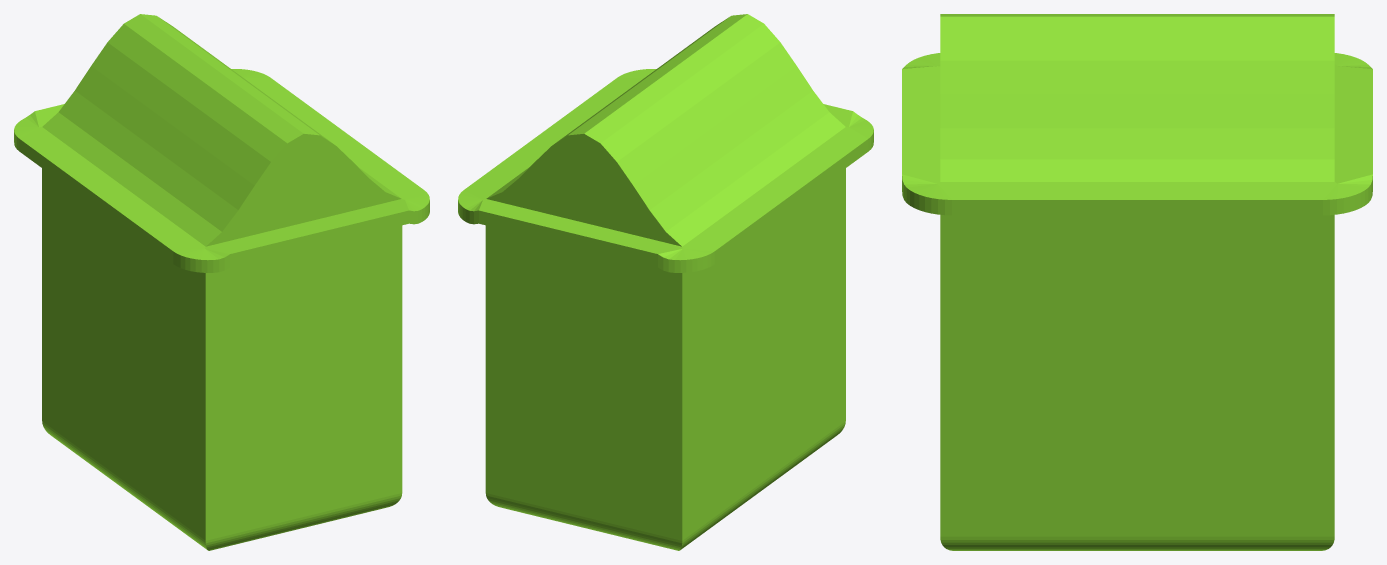
File: TACHO.fbx
3 views of the same model, side by side, from view 1: azimuth 30°, elevation 25°; view 2: azimuth 150°, elevation 25°; view 3: azimuth 270°, elevation 25° (orthographic). The views are drawn at different scales.
Parts seen in each view (by area): view 1: Cube, Cube.001; view 2: Cube, Cube.001; view 3: Cube, Cube.001.
Part boxes in pixels (bbox=[...]): Cube: bbox=[42, 168, 402, 550]; Cube.001: bbox=[14, 14, 429, 272]; Cube: bbox=[485, 168, 845, 550]; Cube.001: bbox=[458, 14, 873, 272]; Cube: bbox=[940, 215, 1334, 550]; Cube.001: bbox=[902, 14, 1372, 215].
Bounding box in the file's own units: 177 × 271 × 239.
